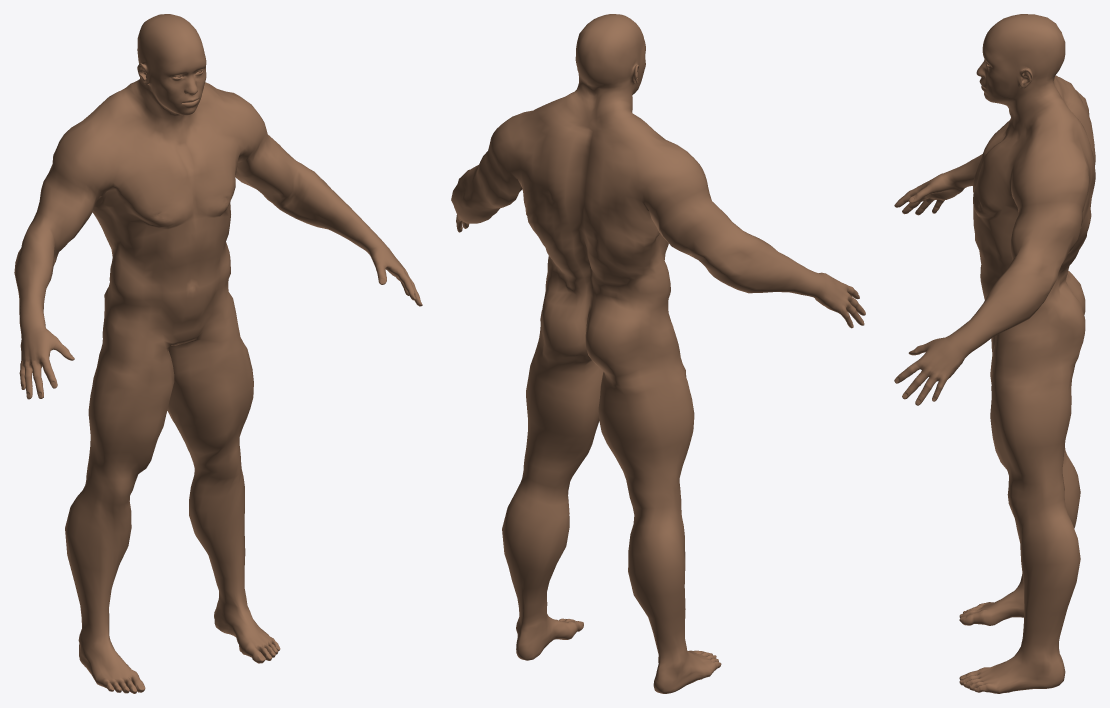
File: step2.obj
3 renders of one model, left to right at view 1: azimuth 30°, elevation 25°; view 2: azimuth 150°, elevation 25°; view 3: azimuth 270°, elevation 25°, orthographic.
Parts seen in each view (by area): view 1: base.obj; view 2: base.obj; view 3: base.obj.
Boxes of the visible parts, x1,y1,x2,y2 form: base.obj: (14, 14, 422, 693); base.obj: (451, 14, 865, 693); base.obj: (894, 14, 1095, 693).
Bounding box in the file's own units: 11.15 × 17.24 × 4.94.
